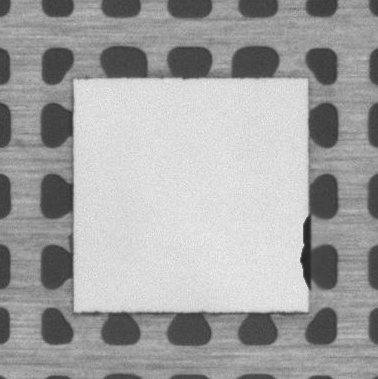DIE_BROKEN: (299, 210, 313, 292)
